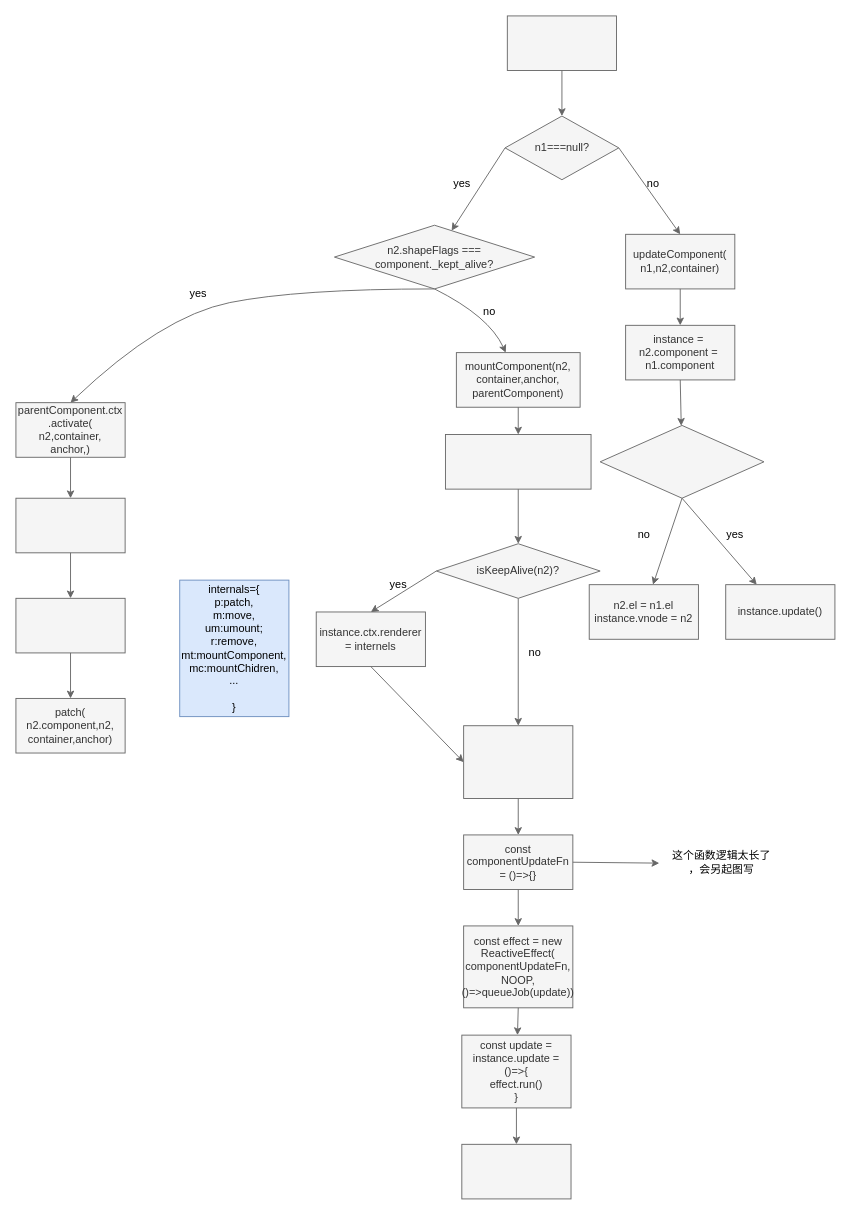
The diagram is 851 pixels wide and 1215 high, and some of its shapes have lost their labels. Each missing label, with the centre of its shape:
"instance = createComponentInstance (n2,parentComponent)" belongs at [518,461].
"move( n2,container, anchor)" belongs at [70,625].
"processComponent( n1,n2, container,anchor, parentComponent)" belongs at [561,43].
"setupRenderEffect( instance, n2, container, anchor)" belongs at [518,762].
"shouldUpdateComponent( n1,n2)" belongs at [681,461].
"update()" belongs at [516,1171].
"{move,patch} = instance.ctx.renderer" belongs at [70,525].
